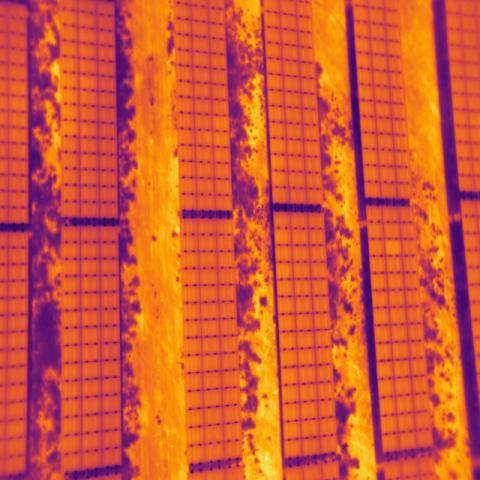fault: (385, 238, 403, 257)
